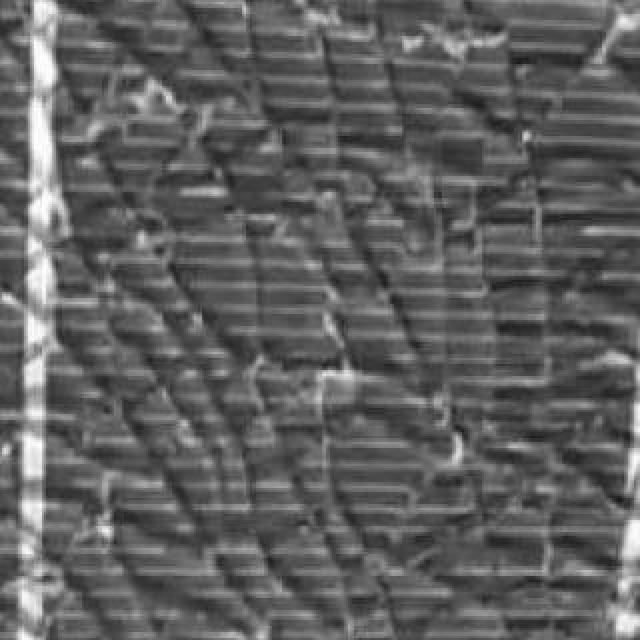Physical-damage: (64, 8, 640, 640)
